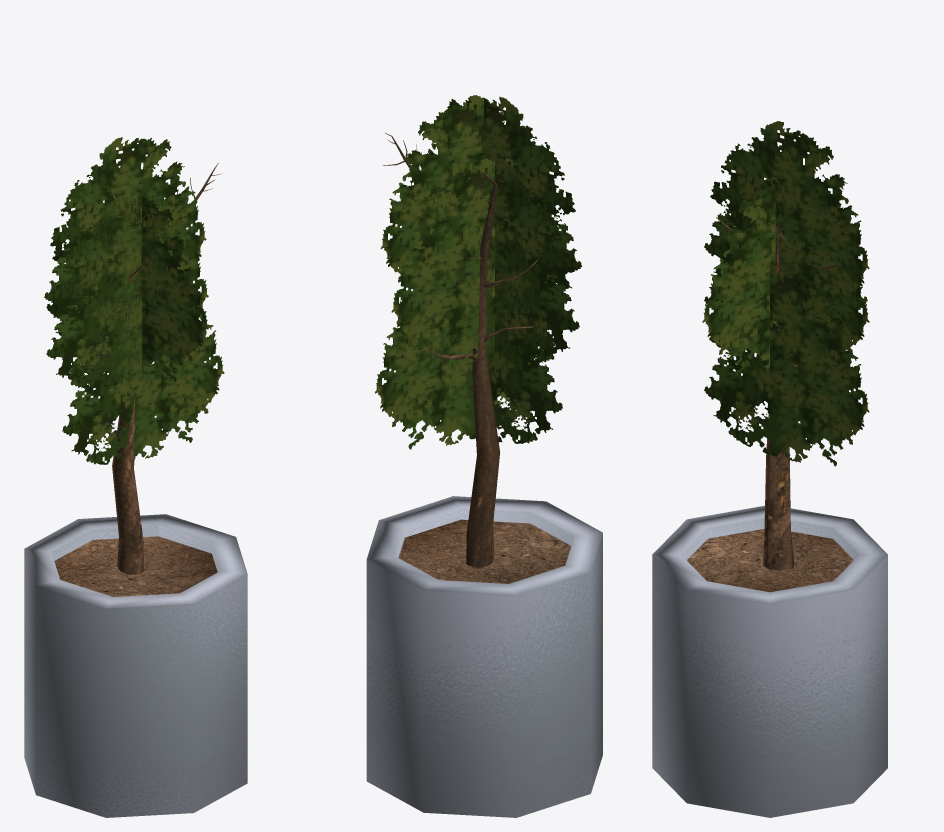
Rendered from DecorativePlant3.fbx.
3 renders of one model, left to right at view 1: azimuth 30°, elevation 25°; view 2: azimuth 150°, elevation 25°; view 3: azimuth 270°, elevation 25°, orthographic. The views are drawn at different scales.
Parts seen in each view (by area): view 1: DecorativeTree3; view 2: DecorativeTree3; view 3: DecorativeTree3.
Part boxes in pixels (bbox=[...]): DecorativeTree3: bbox=[24, 137, 247, 817]; DecorativeTree3: bbox=[366, 95, 602, 817]; DecorativeTree3: bbox=[652, 121, 887, 817].
Size of the model in its own units: 53.85 by 130 by 48.87.
3 materials, 3 textured.
